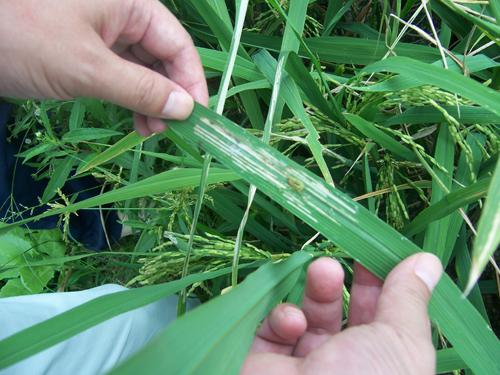pest: (289, 176, 304, 192)
